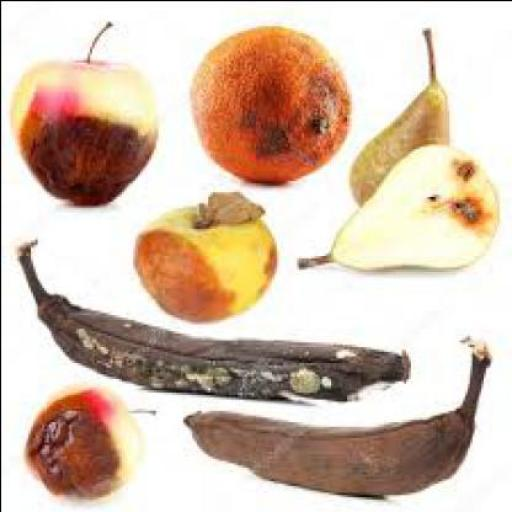biodegradable: (14, 234, 408, 400), (180, 334, 487, 492), (9, 18, 155, 205), (294, 137, 496, 268), (186, 22, 346, 182), (346, 25, 448, 205), (130, 205, 272, 323), (23, 387, 130, 494), (200, 189, 259, 223)
